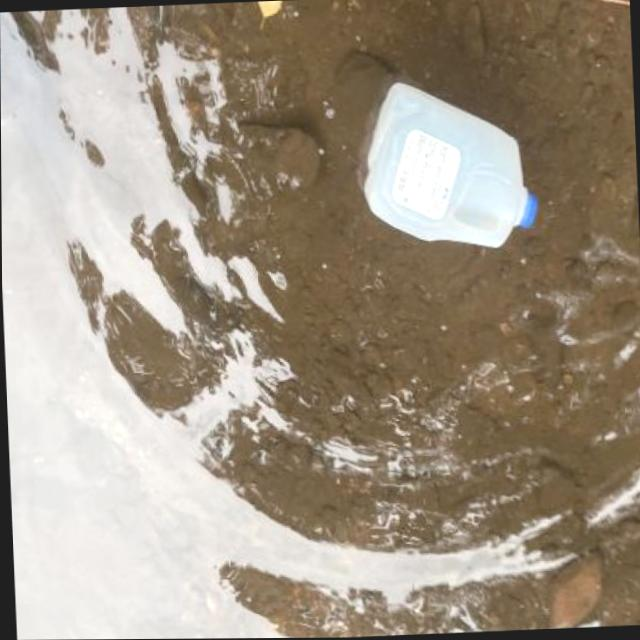Plastic: (347, 68, 547, 262)
